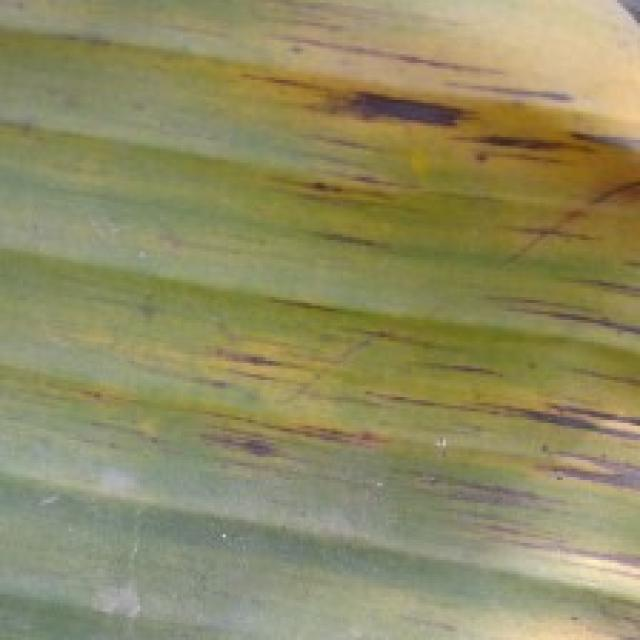Early_leaf_spot: (69, 0, 640, 341), (108, 294, 640, 522), (471, 503, 640, 640)
